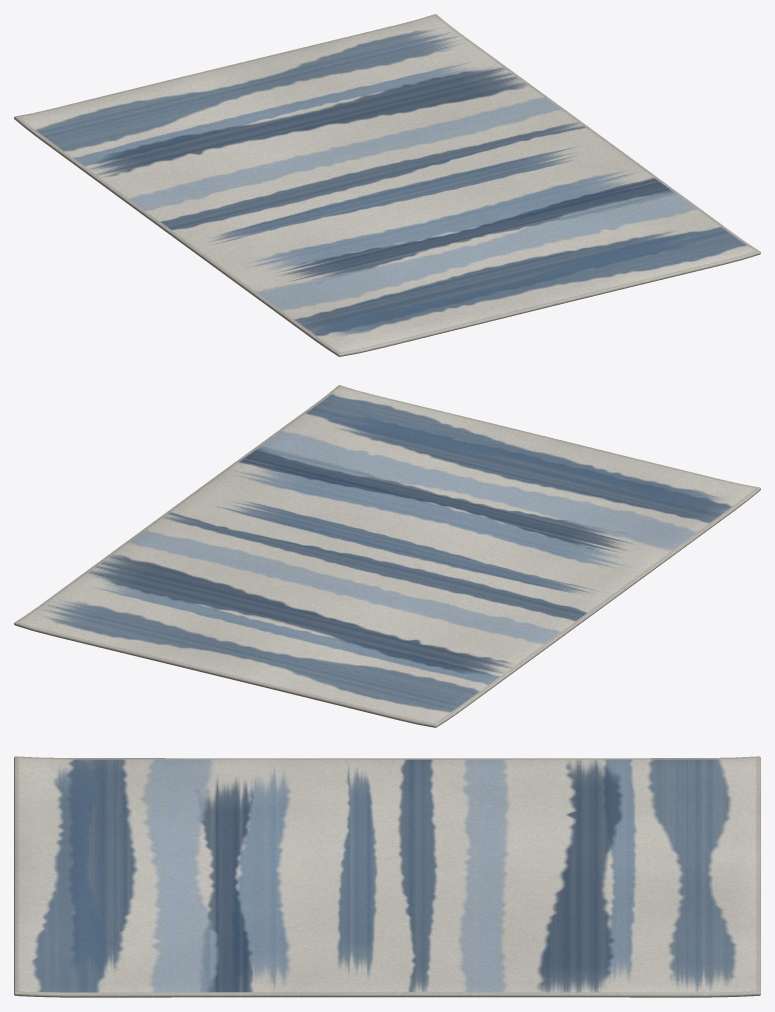
File: rug-motion-denim.lite.871a4abe.glb
3 renders of one model, top to bottom at view 1: azimuth 30°, elevation 25°; view 2: azimuth 150°, elevation 25°; view 3: azimuth 270°, elevation 25°, orthographic. The views are drawn at different scales.
Parts seen in each view (by area): view 1: rug-motion-denim; view 2: rug-motion-denim; view 3: rug-motion-denim.
Boxes of the visible parts, x1,y1,x2,y2 form: rug-motion-denim: (14,14,760,356); rug-motion-denim: (14,385,760,727); rug-motion-denim: (14,756,760,997).
Bounding box in the file's own units: 1.65 × 0.018 × 2.2.
Materials: 1 (1 with a texture image).
